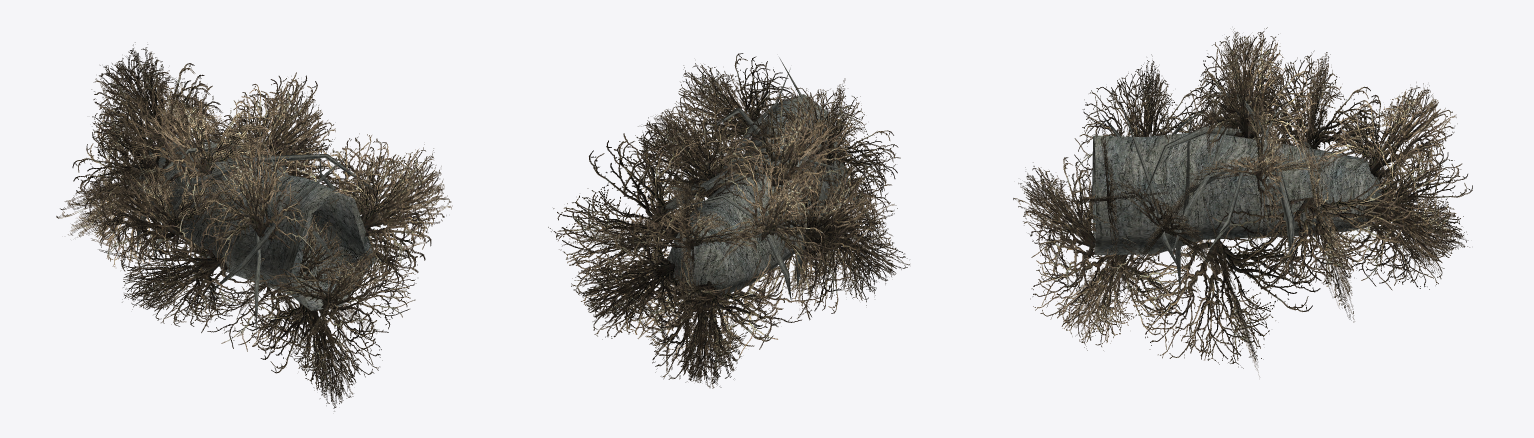
File: poi_all_lair_bramble_l1.fbx
3 renders of one model, left to right at view 1: azimuth 30°, elevation 25°; view 2: azimuth 150°, elevation 25°; view 3: azimuth 270°, elevation 25°, orthographic. The views are drawn at different scales.
Visible parts, largest first — view 1: mesh_node; view 2: mesh_node; view 3: mesh_node.
Part boxes in pixels (left/top/right/bottom): mesh_node: left=56, top=42, right=452, bottom=411; mesh_node: left=548, top=53, right=909, bottom=388; mesh_node: left=1013, top=27, right=1472, bottom=376.
Bounding box in the file's own units: 3.73 × 3.62 × 5.05.
2 materials, 2 textured.
